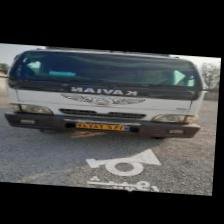plate: (77, 120, 135, 130)
